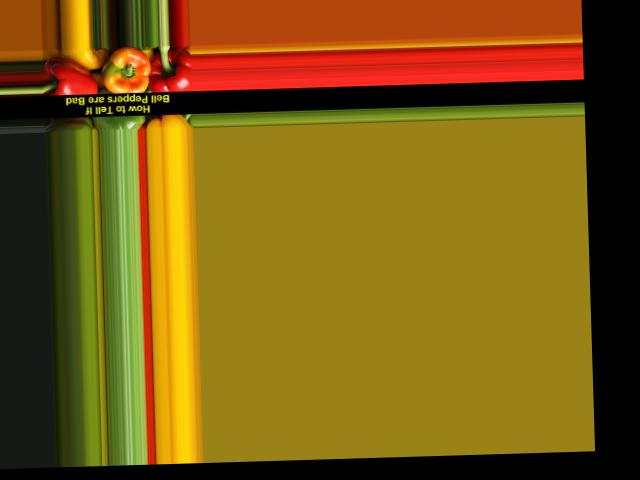bell_pepper: (145, 45, 190, 95)
